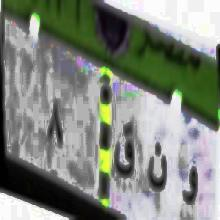noon: (146, 128, 168, 206)
qaaf: (114, 113, 136, 194), (46, 89, 66, 149)
waw: (179, 158, 200, 217)
